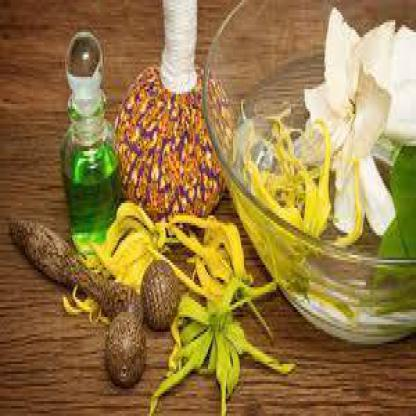Kenanga: (180, 231, 260, 395), (281, 209, 324, 323), (114, 204, 186, 268)
